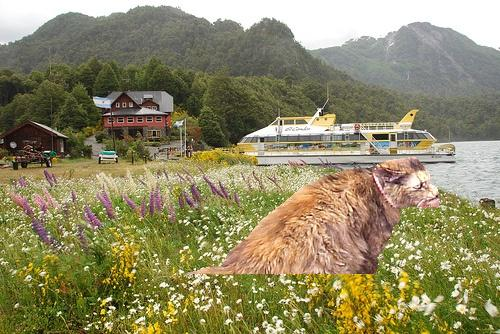tampered: (181, 158, 439, 274)
